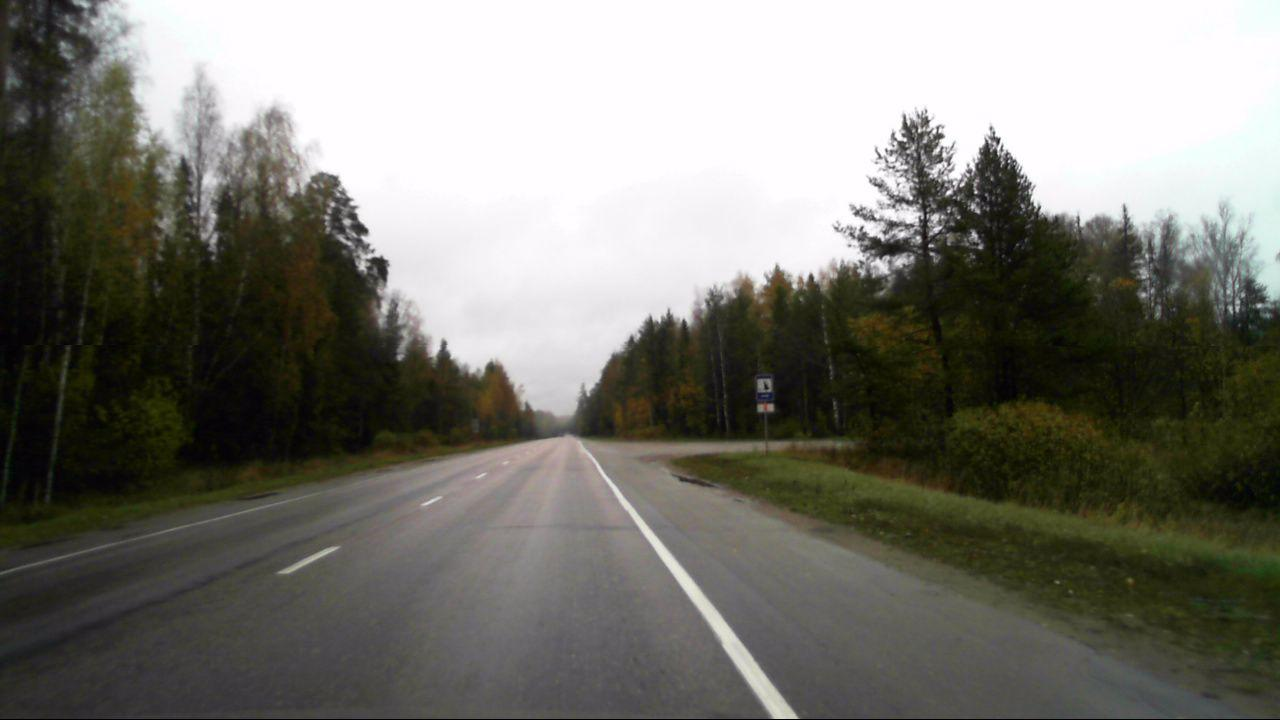7_11: (754, 374, 776, 401)
